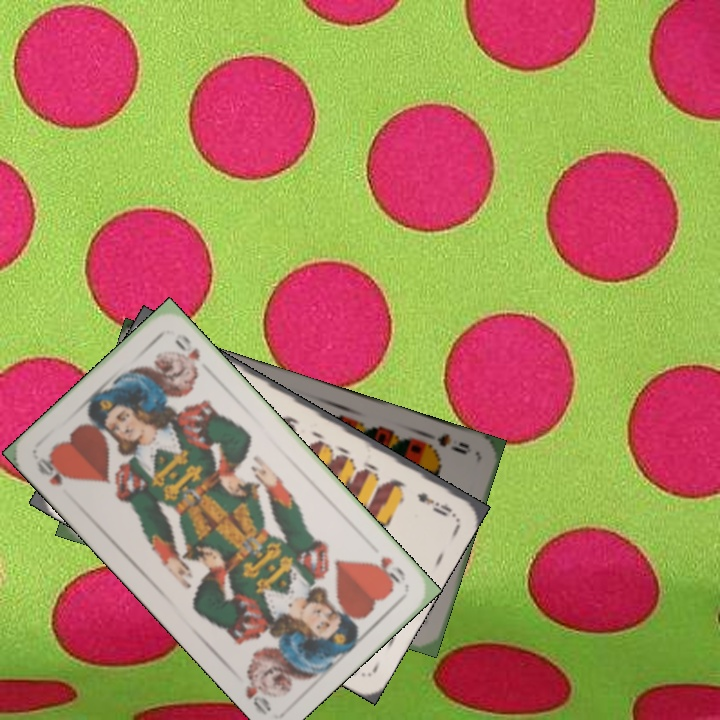E9: (413, 488, 455, 519)
HO: (31, 451, 74, 488), (367, 552, 409, 588)
S9: (418, 427, 473, 457)
